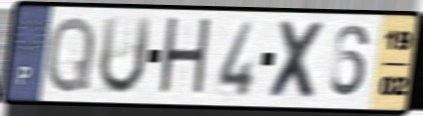4: (215, 19, 256, 100)
6: (329, 23, 372, 101)
H: (155, 15, 214, 101)
Q: (43, 13, 99, 97)
U: (95, 14, 155, 98)
X: (265, 18, 329, 104)
